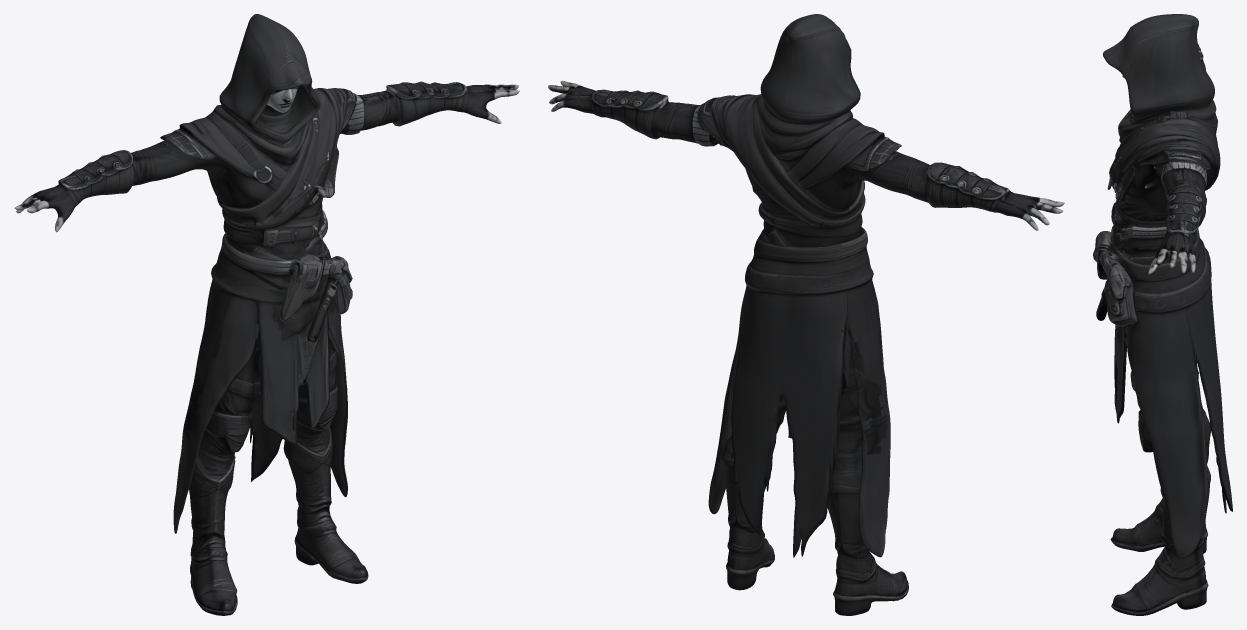
Rendered from tripo_convert_ea7de6e7-e8ea-4381-abdf-727c21d3426a.fbx.
3 renders of one model, left to right at view 1: azimuth 30°, elevation 25°; view 2: azimuth 150°, elevation 25°; view 3: azimuth 270°, elevation 25°, orthographic. The views are drawn at different scales.
Visible parts, largest first — view 1: tripo_node_ea7de6e7; view 2: tripo_node_ea7de6e7; view 3: tripo_node_ea7de6e7.
Part boxes in pixels (left/top/right/bottom): tripo_node_ea7de6e7: left=14, top=14, right=519, bottom=615; tripo_node_ea7de6e7: left=548, top=14, right=1064, bottom=615; tripo_node_ea7de6e7: left=1093, top=14, right=1232, bottom=615.
Bounding box in the file's own units: 0.9219 × 0.9774 × 0.2202.
1 material, 1 textured.
